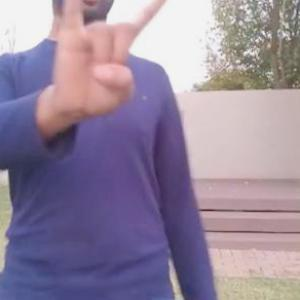takeoff-hand: (46, 0, 186, 125)
